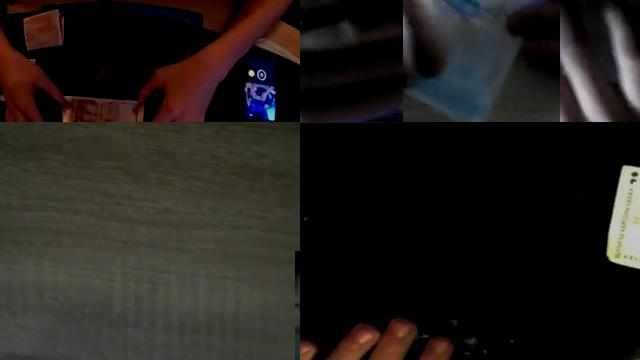20leva: (403, 0, 544, 122)
50leva: (63, 96, 138, 122)
